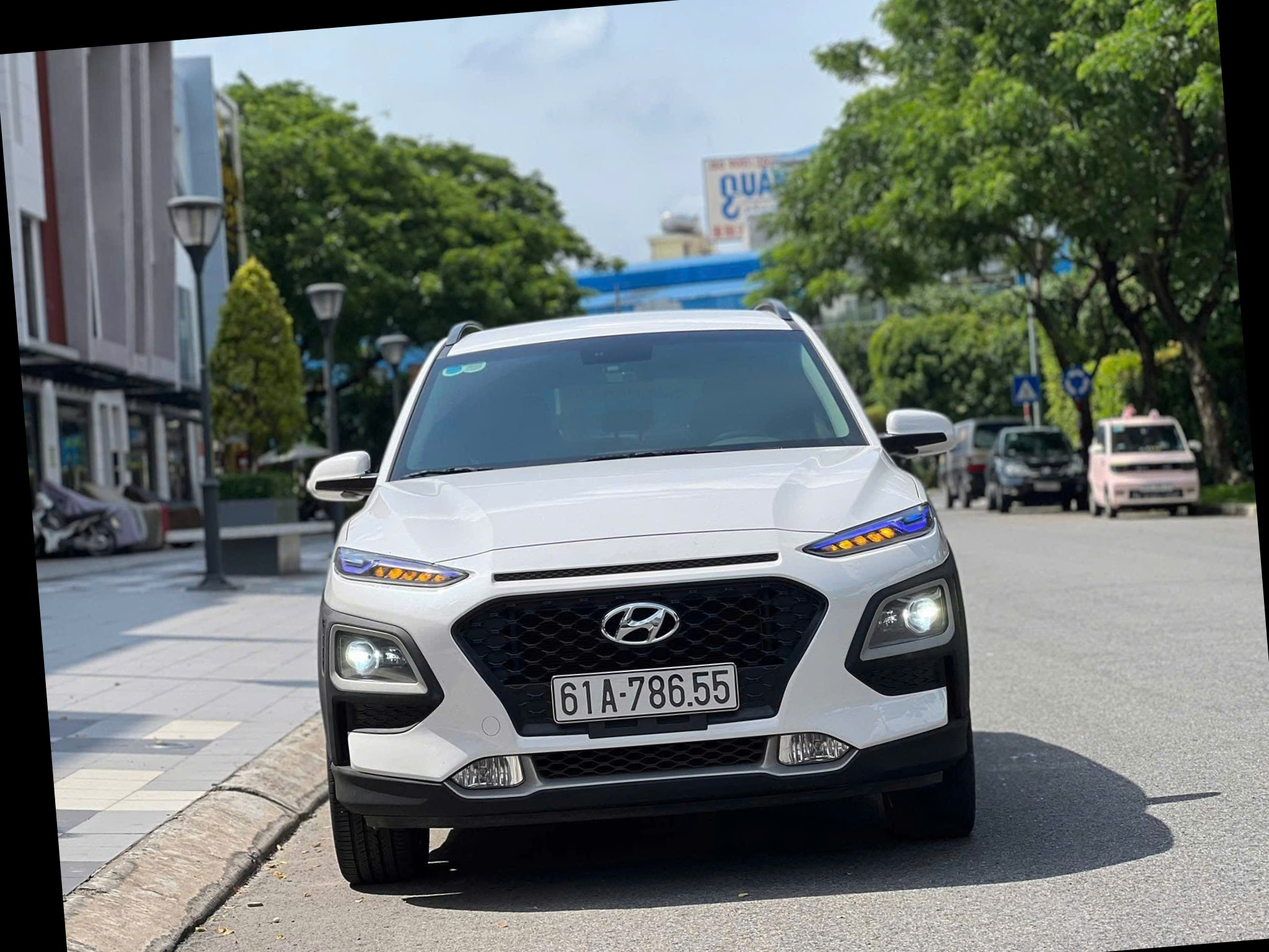Bien-so: (498, 651, 693, 701)
